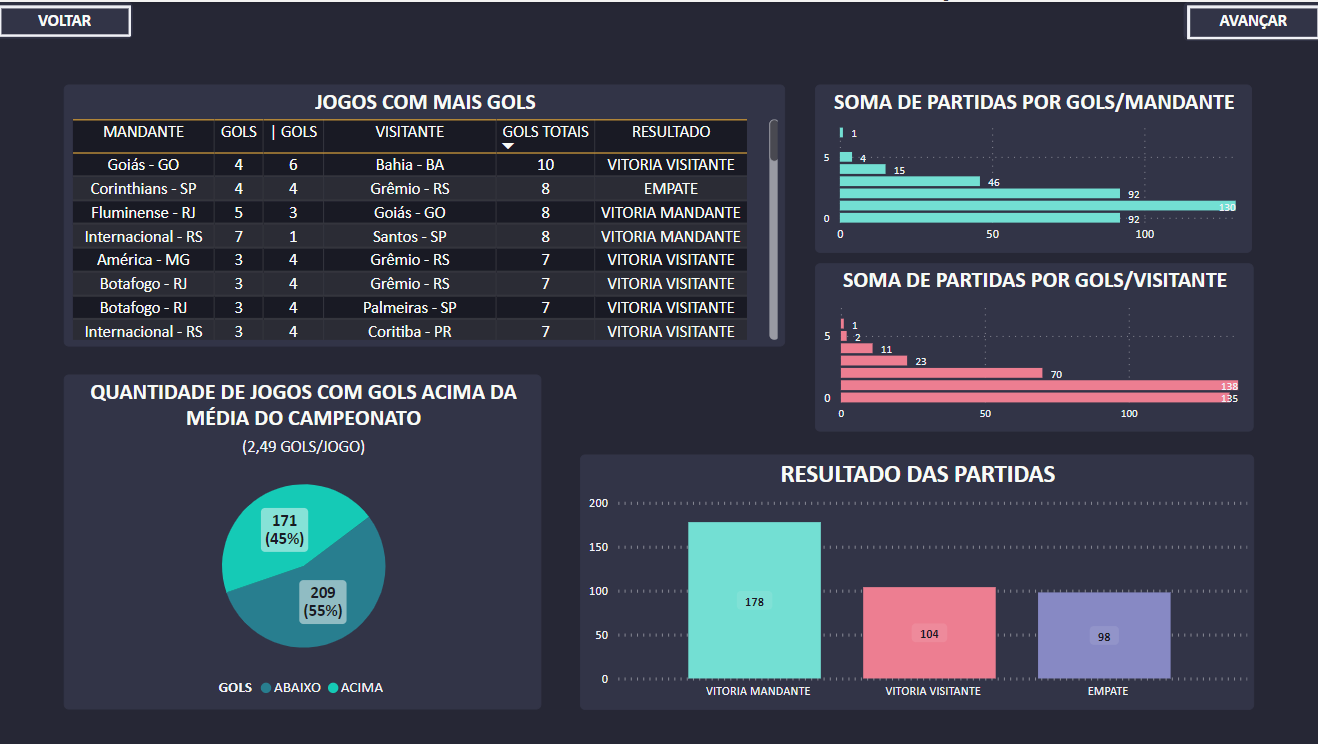

What the dashboard file says about the page in this screenshot:
{"tool":"powerbi","page":{"name":"3","canvas":[1280,720],"ordinal":3},"visuals":[{"type":"textbox","box":[0,0,132.5,35],"z":0},{"type":"actionButton","box":[0,0,132.7,35],"z":1000},{"type":"textbox","box":[1147.5,0,132.5,35],"z":2000},{"type":"actionButton","box":[1146.9,0,132.7,37.4],"z":3000},{"type":"pieChart","title":"QUANTIDADE DE JOGOS COM GOLS ACIMA DA MÉDIA DO CAMPEONATO","fields":{"Category":["JOGOS_BRASILEIRAO_2023.> 2,49?"],"Y":["CountNonNull(JOGOS_BRASILEIRAO_2023.PARTIDA)"]},"box":[66.3,359.7,461.1,323.2],"z":4000},{"type":"clusteredBarChart","title":"SOMA DE PARTIDAS POR GOLS/MANDANTE","fields":{"Y":["CountNonNull(JOGOS_BRASILEIRAO_2023.PARTIDA)"],"Category":["JOGOS_BRASILEIRAO_2023.PLACAR_MANDANTE"]},"box":[791,79.8,421.9,162.3],"z":5000},{"type":"columnChart","title":"RESULTADO DAS PARTIDAS","fields":{"Category":["JOGOS_BRASILEIRAO_2023.RESULTADO_MANDANTE"],"Y":["CountNonNull(JOGOS_BRASILEIRAO_2023.PARTIDA)"]},"box":[563.9,436.8,650.4,246.1],"z":6000},{"type":"clusteredBarChart","title":"SOMA DE PARTIDAS POR GOLS/VISITANTE","fields":{"Category":["JOGOS_BRASILEIRAO_2023.PLACAR_VISITANTE"],"Y":["CountNonNull(JOGOS_BRASILEIRAO_2023.PARTIDA)"]},"box":[791,251.5,423.2,162.3],"z":7000},{"type":"tableEx","title":"JOGOS COM MAIS GOLS","fields":{"Values":["JOGOS_BRASILEIRAO_2023.MANDANTE-UF","Max(JOGOS_BRASILEIRAO_2023.PLACAR_MANDANTE)","Max(JOGOS_BRASILEIRAO_2023.PLACAR_VISITANTE)","JOGOS_BRASILEIRAO_2023.VISITANTE-UF","JOGOS_BRASILEIRAO_2023.GOLS_POR_PARTIDA","JOGOS_BRASILEIRAO_2023.RESULTADO"]},"box":[66.3,79.8,696.4,252.9],"z":8000}]}

Visuals, with their boxes in screenshot pixels (x1, y1, x2, y2), scaled from the page's 1280x720 canvas onto the 1318x744 screenshot:
textbox: region(0, 0, 136, 36)
actionButton: region(0, 0, 137, 36)
textbox: region(1182, 0, 1317, 36)
actionButton: region(1181, 0, 1317, 39)
"QUANTIDADE DE JOGOS COM GOLS ACIMA DA MÉDIA DO CAMPEONATO" pieChart: region(68, 372, 543, 706)
"SOMA DE PARTIDAS POR GOLS/MANDANTE" clusteredBarChart: region(814, 82, 1249, 250)
"RESULTADO DAS PARTIDAS" columnChart: region(581, 451, 1250, 706)
"SOMA DE PARTIDAS POR GOLS/VISITANTE" clusteredBarChart: region(814, 260, 1250, 428)
"JOGOS COM MAIS GOLS" tableEx: region(68, 82, 785, 344)
